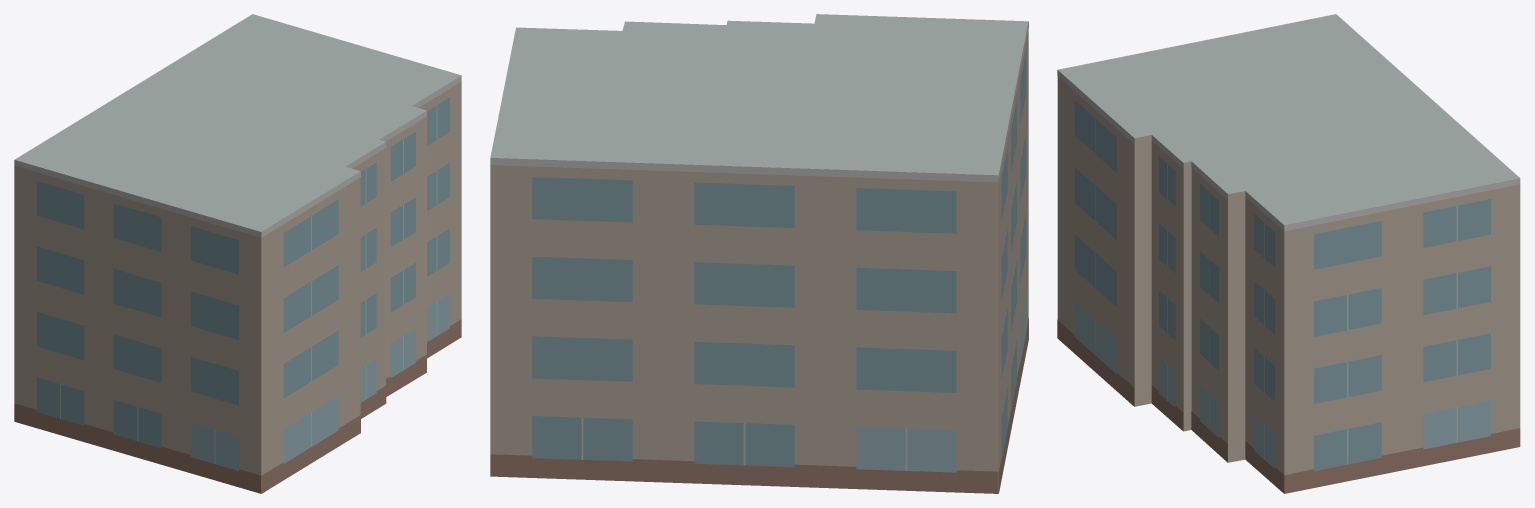
Rendered from survey-upis-32458106.glb.
3 views of the same model, side by side, from view 1: azimuth 30°, elevation 25°; view 2: azimuth 150°, elevation 25°; view 3: azimuth 270°, elevation 25° (orthographic). The views are drawn at different scales.
Parts seen in each view (by area): view 1: survey-upis-32458106.tmp; view 2: survey-upis-32458106.tmp; view 3: survey-upis-32458106.tmp.
Boxes of the visible parts, x1,y1,x2,y2 form: survey-upis-32458106.tmp: (14,14,461,493); survey-upis-32458106.tmp: (490,14,1028,493); survey-upis-32458106.tmp: (1057,14,1520,493).
Size of the model in its own units: 18.31 by 10.85 by 16.96.
